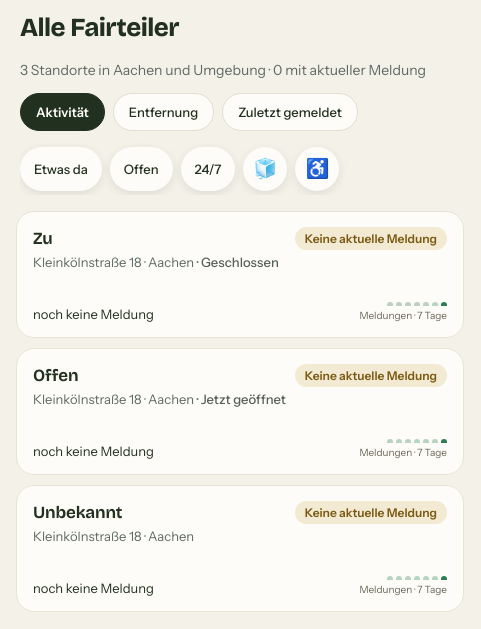
Scenario: ListeView › the "Jetzt offen" chip filters to known-open places only
The width and height of the screenshot is (481, 629).
Step 1. Click the button with test id "chip-openNow" → (141, 169), box 110,147 -> 172,191
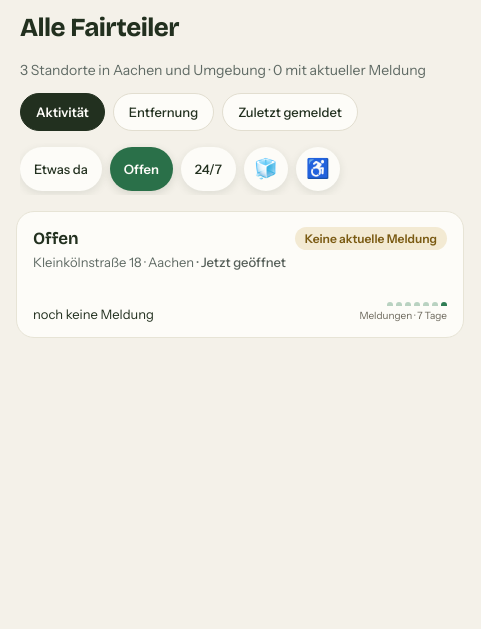
Expected: the link with class "listecard" shows "Offen", 33,228 -> 78,249
Result: the number of links with class "listecard" is 1 at 16,211 -> 464,338
